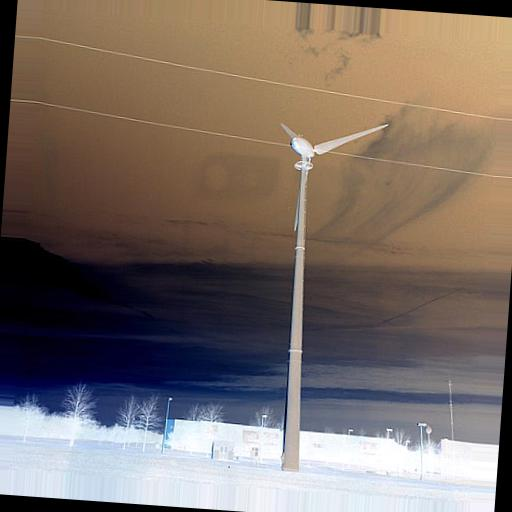wind turbine: (278, 119, 390, 471)
